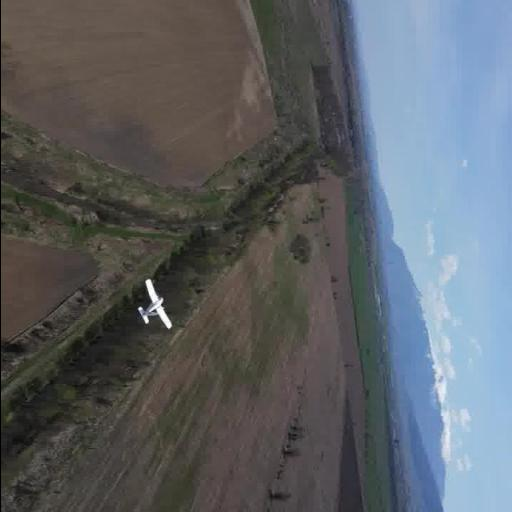uav: (128, 276, 178, 332)
